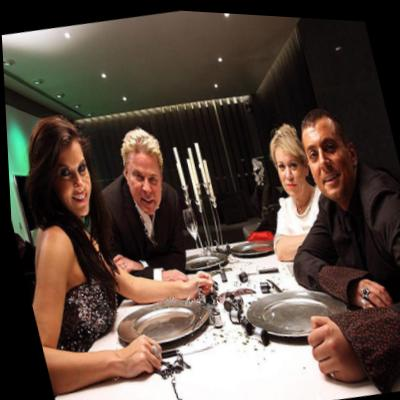happy: (298, 117, 354, 195), (46, 136, 97, 219), (122, 145, 167, 212)
netural: (269, 138, 308, 193)
